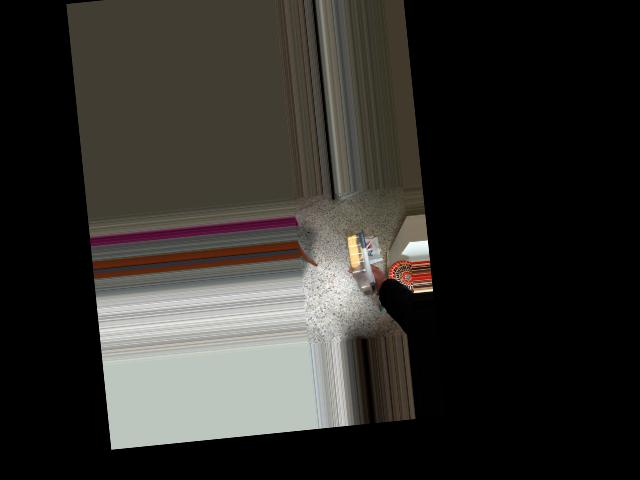cheese: (328, 227, 408, 286)
